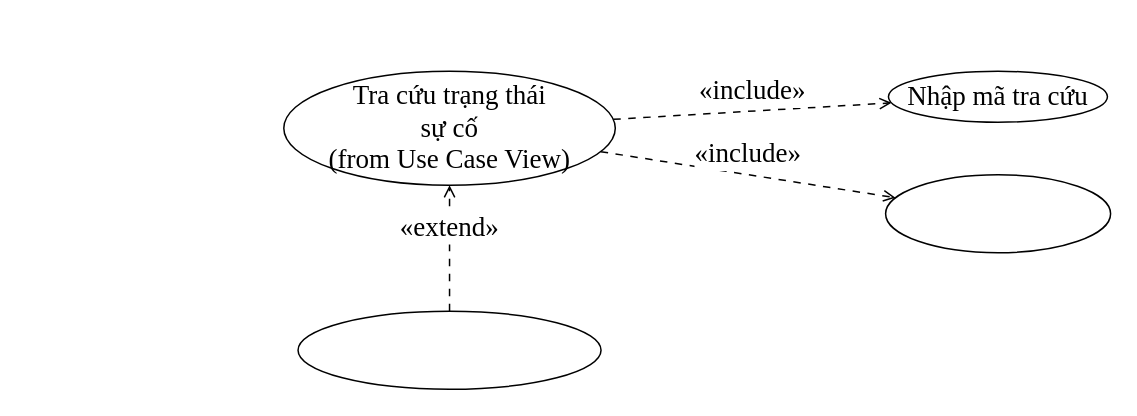
Image size: 1137x416. Some labels were removed from this diagram. The shapes that lost their labels are listed below. From the top down, each one's box as (x1, y1, x2, y2) in pixels, then its label:
(884, 173, 1111, 253): Xem trạng thái hiện tại
(297, 310, 601, 389): Xem lịch sử xử lý (các mốc thời gian)
